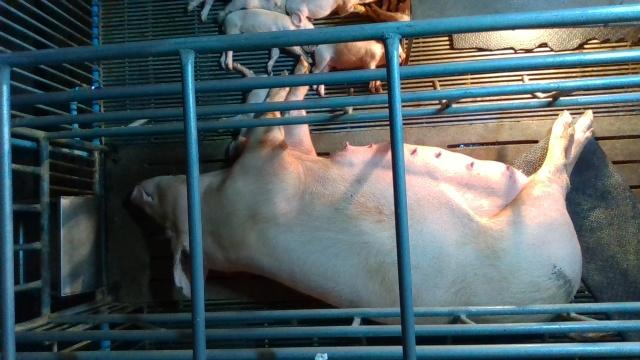piglet: (220, 9, 315, 77), (310, 41, 406, 95)
sow-sleep-lactate: (131, 55, 594, 324)
